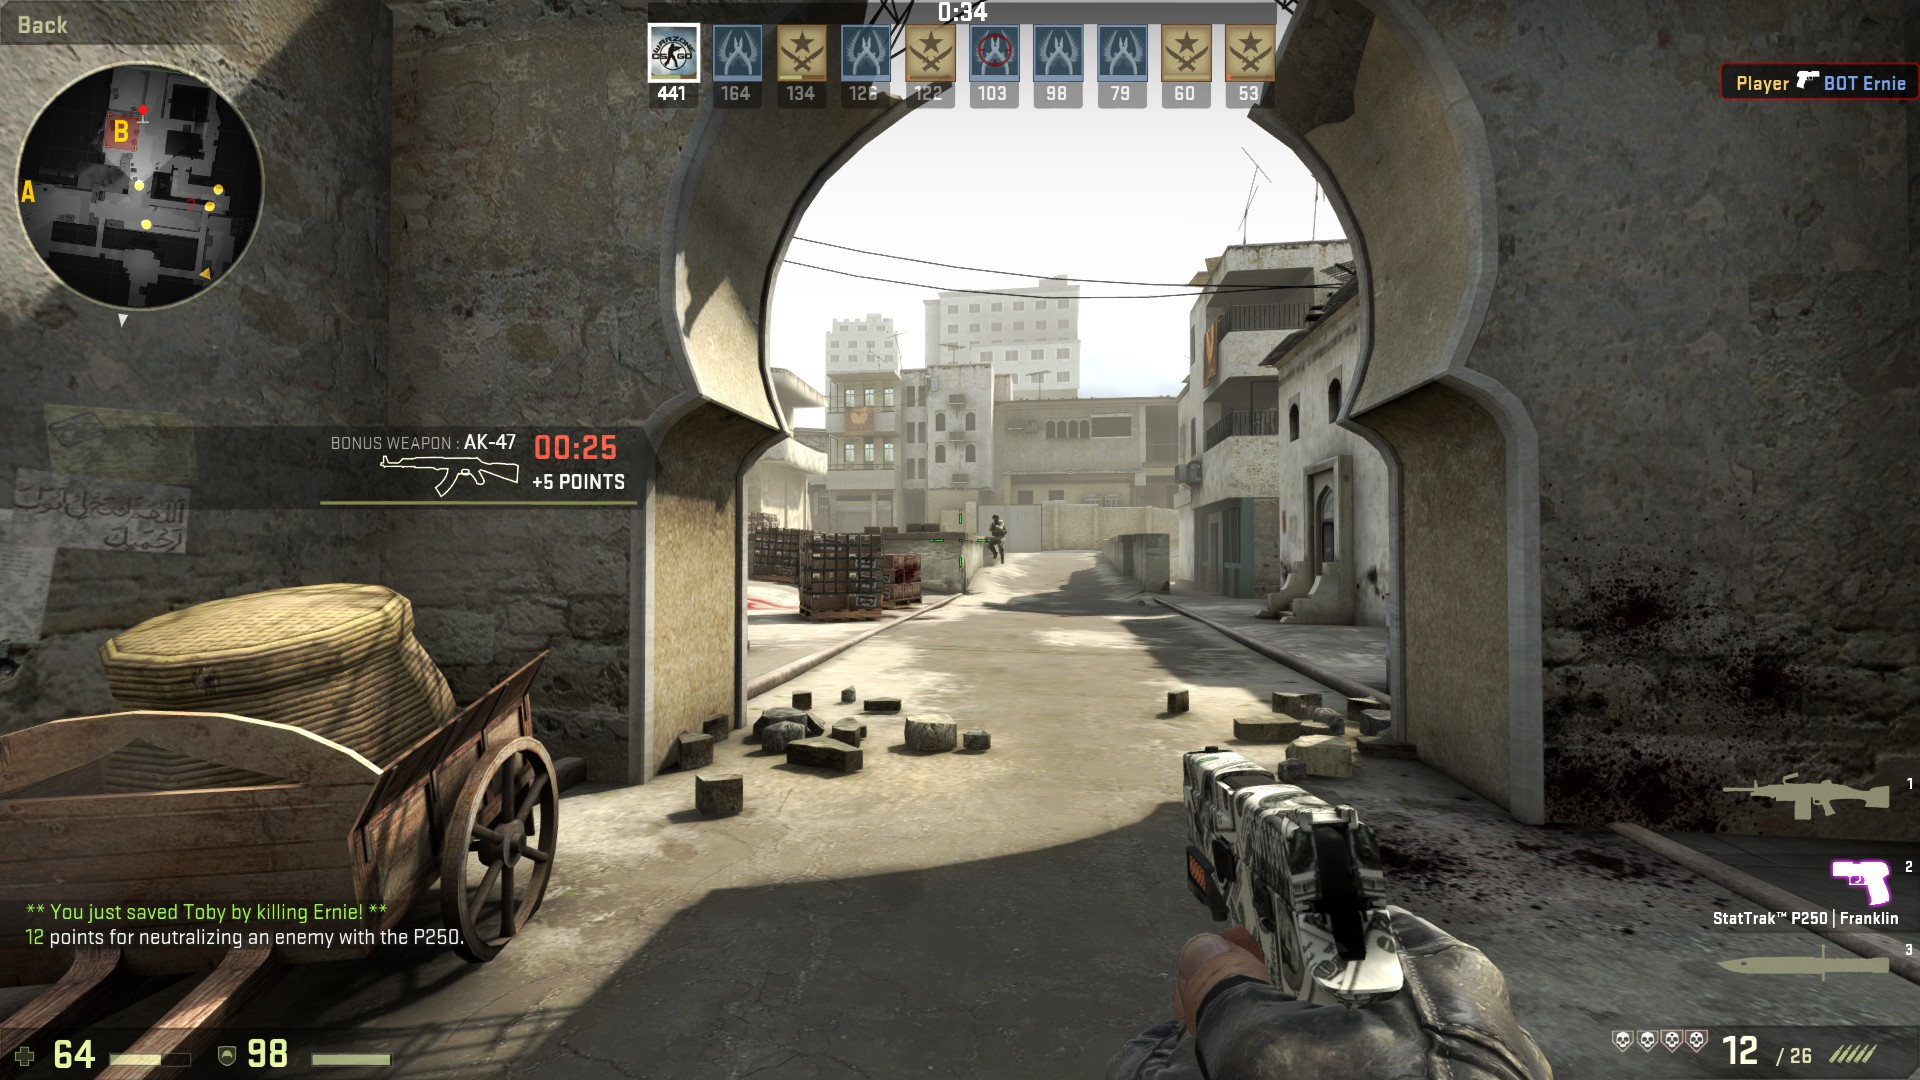c: (986, 513, 1006, 560)
ch: (992, 513, 1001, 524)
